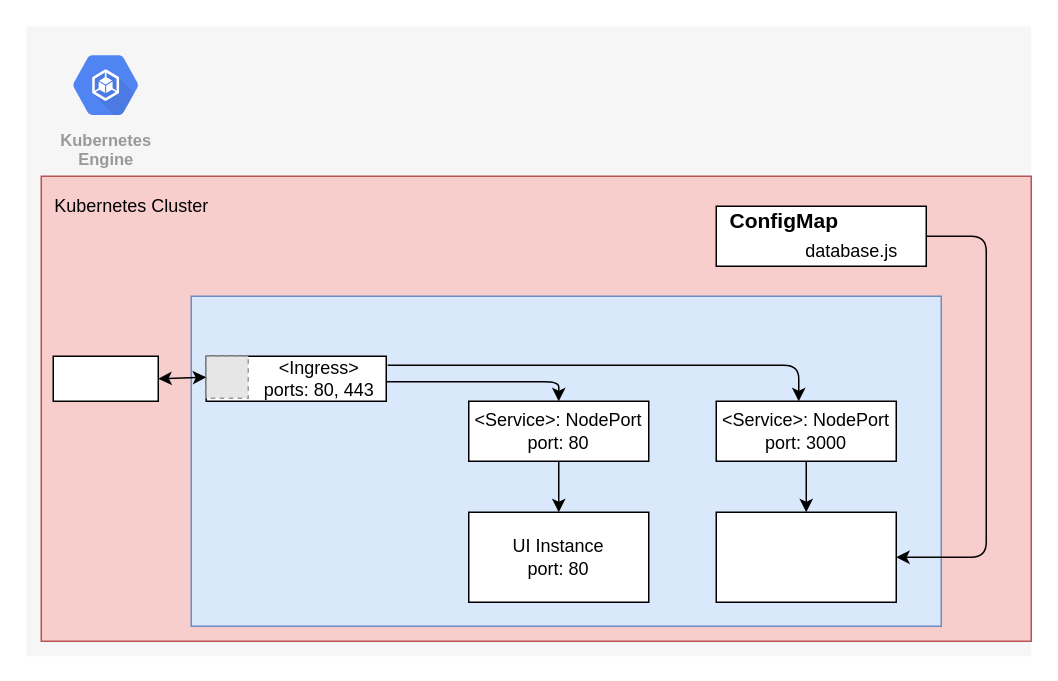
Some shapes in this 1058 by 681 pixel diagram are drawn without their labels. Grey dashed boxes stand in for pictures. The centre of each missing label's shape, as x and y in pixels:
"API Server Instance port: 3000" goes at [805,556].
"Web User" goes at [105,378].
